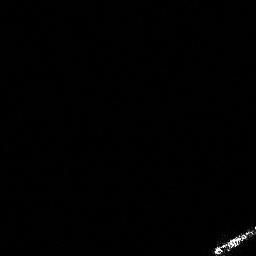ship: (213, 226, 256, 255)
